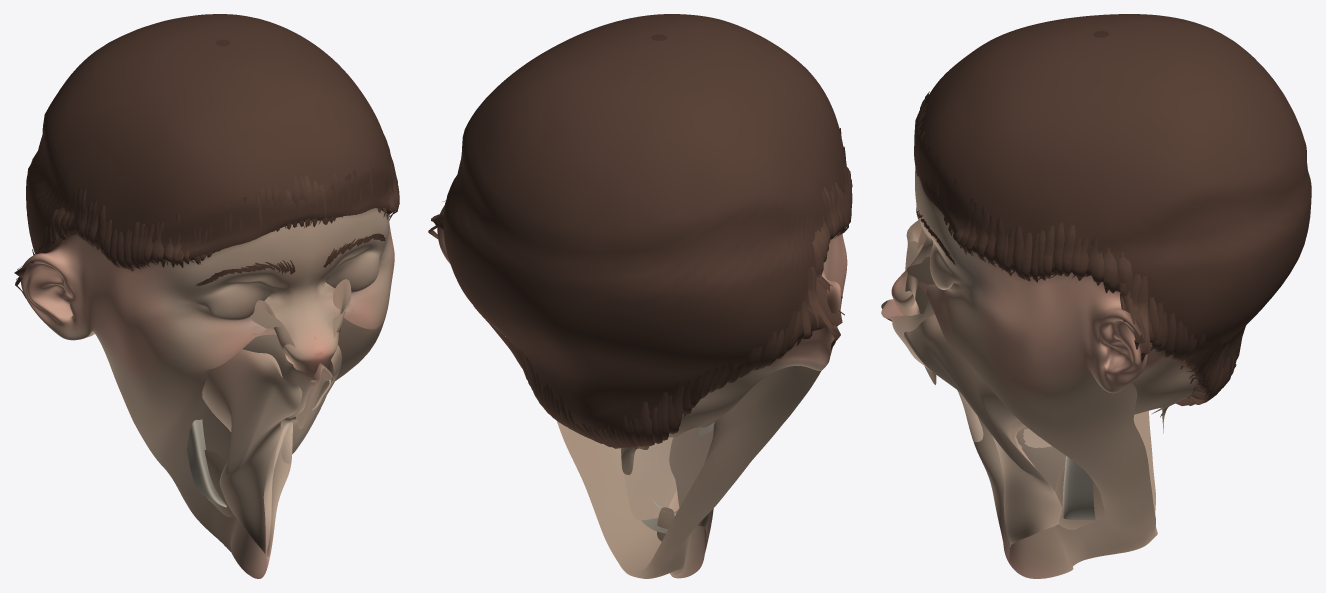
Rendered from cas_bl.glb.
3 renders of one model, left to right at view 1: azimuth 30°, elevation 25°; view 2: azimuth 150°, elevation 25°; view 3: azimuth 270°, elevation 25°, orthographic. The views are drawn at different scales.
Visible parts, largest first — view 1: cas_head, cas_hair_shell, cas_hair_cards, cas_brows; view 2: cas_hair_shell, cas_head, cas_hair_cards; view 3: cas_hair_shell, cas_head, cas_hair_cards.
Boxes of the visible parts, left/top/right/bottom form: cas_head: left=20, top=39, right=394, bottom=578; cas_hair_shell: left=14, top=14, right=394, bottom=277; cas_hair_cards: left=15, top=135, right=399, bottom=298; cas_brows: left=195, top=233, right=385, bottom=286; cas_hair_shell: left=432, top=14, right=845, bottom=432; cas_head: left=437, top=34, right=847, bottom=578; cas_hair_cards: left=428, top=128, right=852, bottom=448; cas_hair_shell: left=914, top=14, right=1311, bottom=398; cas_head: left=881, top=31, right=1198, bottom=578; cas_hair_cards: left=914, top=91, right=1236, bottom=406.
Bounding box in the file's own units: 1.12 × 1.44 × 1.03.
